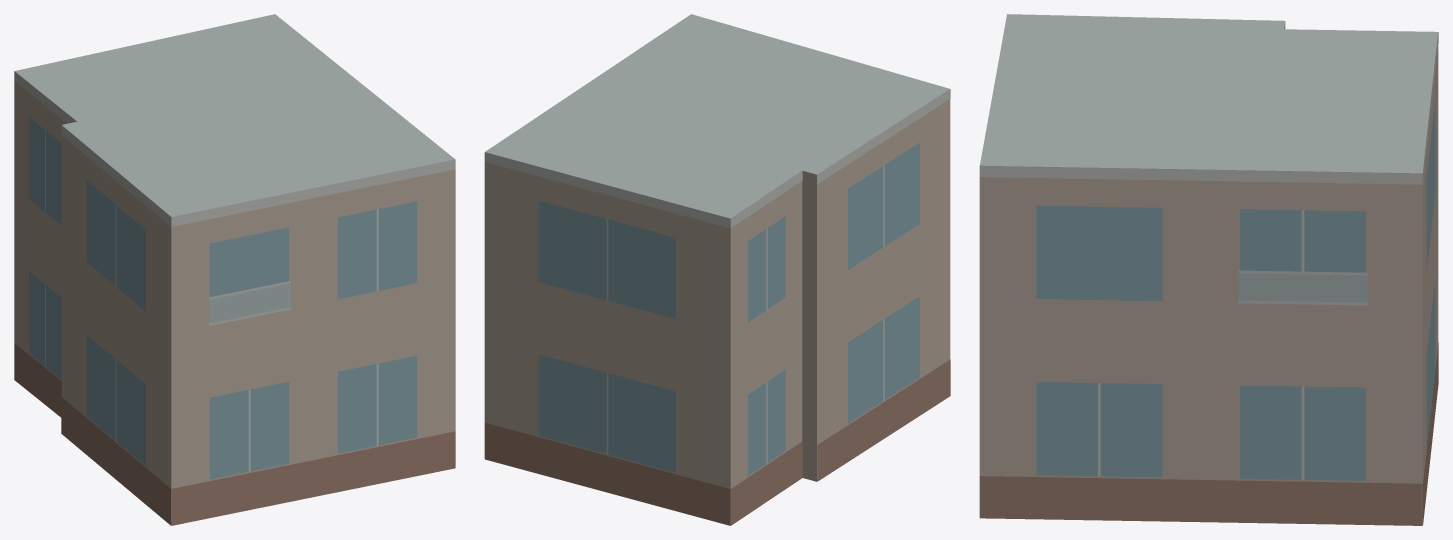
File: survey-upis-32607264.glb
3 renders of one model, left to right at view 1: azimuth 30°, elevation 25°; view 2: azimuth 150°, elevation 25°; view 3: azimuth 270°, elevation 25°, orthographic. The views are drawn at different scales.
Visible parts, largest first — view 1: survey-upis-32607264.tmp; view 2: survey-upis-32607264.tmp; view 3: survey-upis-32607264.tmp.
Part boxes in pixels (x1,y1,x2,y2): survey-upis-32607264.tmp: [14, 14, 455, 525]; survey-upis-32607264.tmp: [484, 14, 950, 525]; survey-upis-32607264.tmp: [979, 14, 1438, 525].
Bounding box in the file's own units: 7.37 × 7.6 × 8.97.
